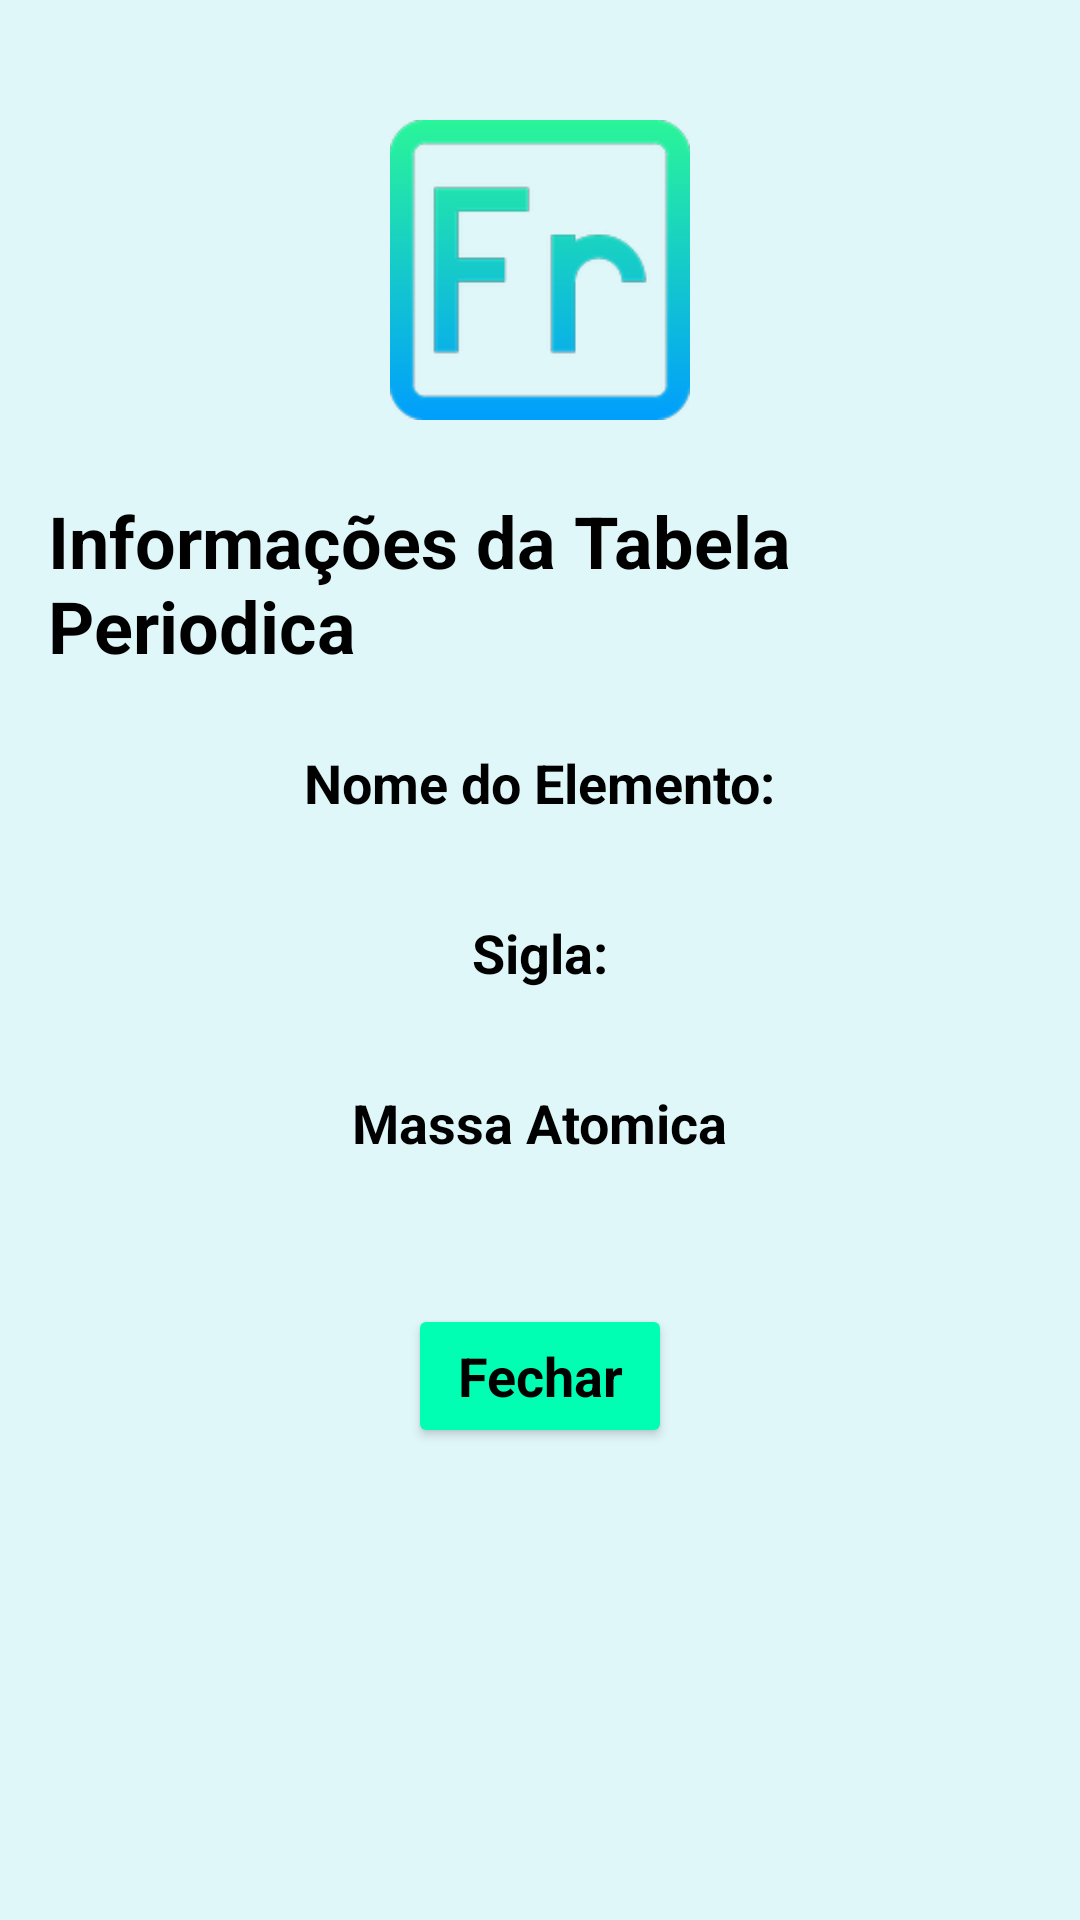

Point at icon controls on the screen. Image size 1080×1920, points as (x=x, y=y).
francio: (x=540, y=270)
